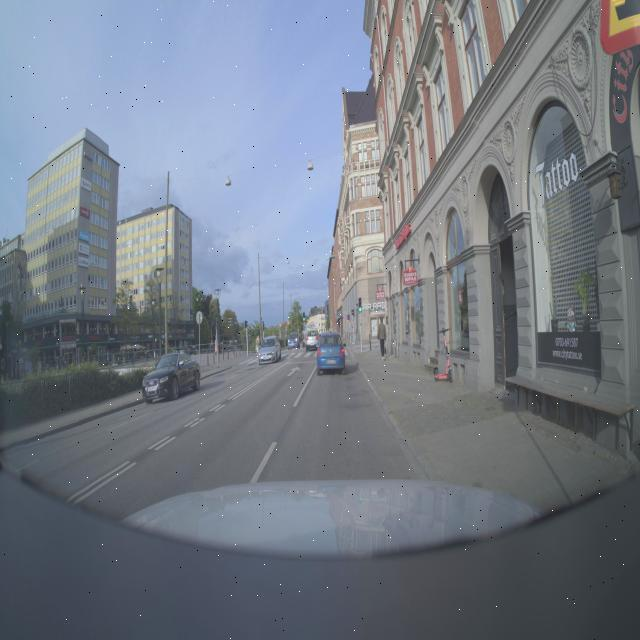green_light: (348, 290, 374, 328)
